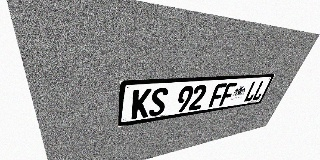2: (188, 84, 208, 111)
9: (175, 85, 195, 113)
F: (208, 83, 227, 108), (219, 82, 238, 106)
K: (131, 88, 152, 120)
L: (243, 81, 261, 102), (251, 80, 269, 101)
S: (148, 87, 169, 117)
